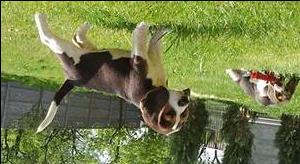cow: (33, 11, 190, 135)
dog: (225, 68, 300, 106)
